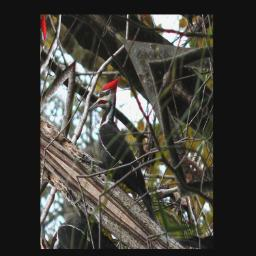Woodpecker: (69, 65, 192, 230)
